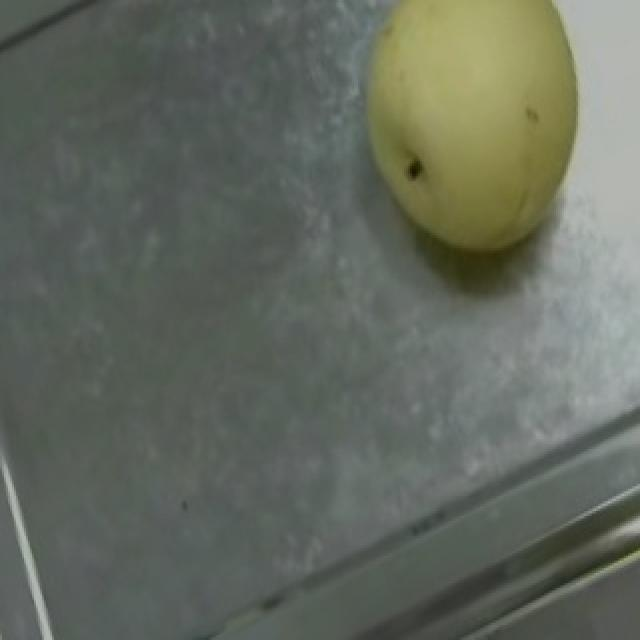Fruit: (318, 0, 624, 293)
